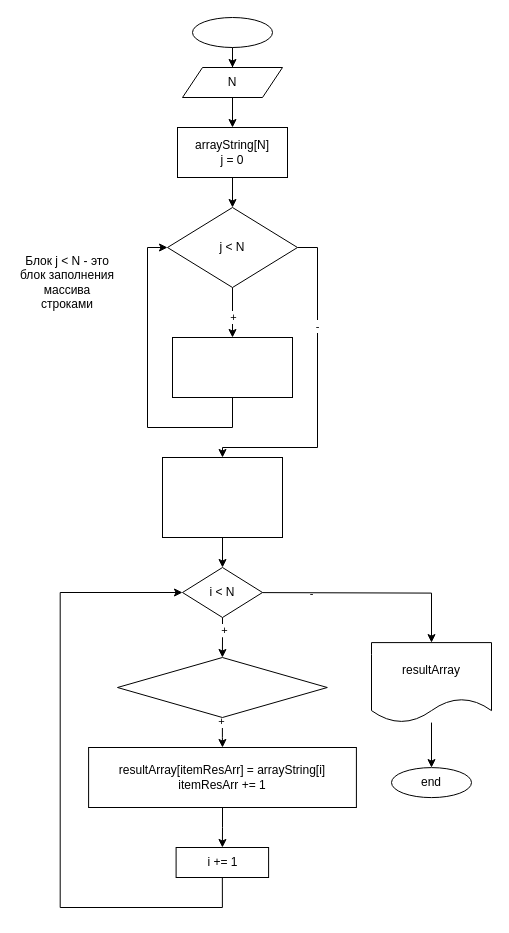
Some shapes in this 509 by 933 pixel diagram are drawn without their labels. The shapes that lost their labels are listed below. From the top down, each one's centre as x and y in pixels, then its label:
At point (232, 32): "start".
At point (232, 367): "arrayString[j] = randomString j += 1".
At point (222, 497): "i = 0 itemResArr = 0 resultArray[]".
At point (221, 687): "arrayString[i] <= 3".
